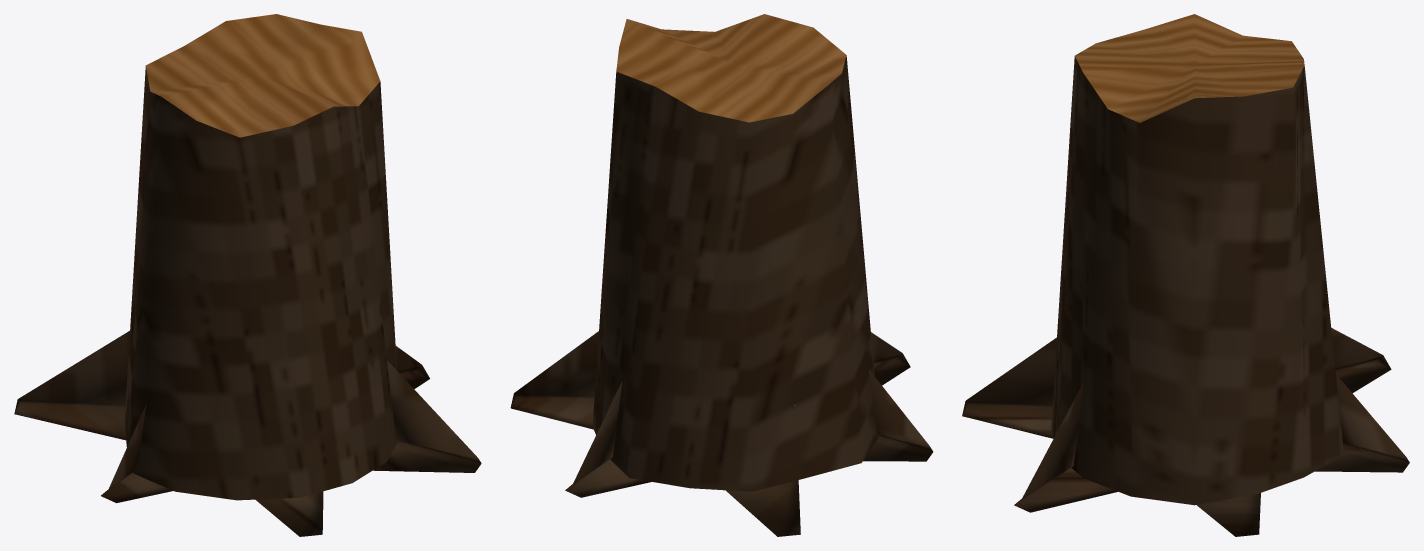
Rendered from stump01_update-lod0.glb.
3 views of the same model, side by side, from view 1: azimuth 30°, elevation 25°; view 2: azimuth 150°, elevation 25°; view 3: azimuth 270°, elevation 25° (orthographic). The views are drawn at different scales.
Parts seen in each view (by area): view 1: TZ_stump_Batch_00_LOD0, TZ_stump_Batch_01_LOD0; view 2: TZ_stump_Batch_00_LOD0, TZ_stump_Batch_01_LOD0; view 3: TZ_stump_Batch_00_LOD0, TZ_stump_Batch_01_LOD0.
Part boxes in pixels (x1,y1,x2,y2): TZ_stump_Batch_00_LOD0: (14,66,481,536); TZ_stump_Batch_01_LOD0: (146,14,380,137); TZ_stump_Batch_00_LOD0: (510,55,933,536); TZ_stump_Batch_01_LOD0: (616,14,846,122); TZ_stump_Batch_00_LOD0: (962,56,1409,536); TZ_stump_Batch_01_LOD0: (1075,14,1304,122).
Size of the model in its own units: 0.5821 by 0.58 by 0.597.
3 materials, 3 textured.
